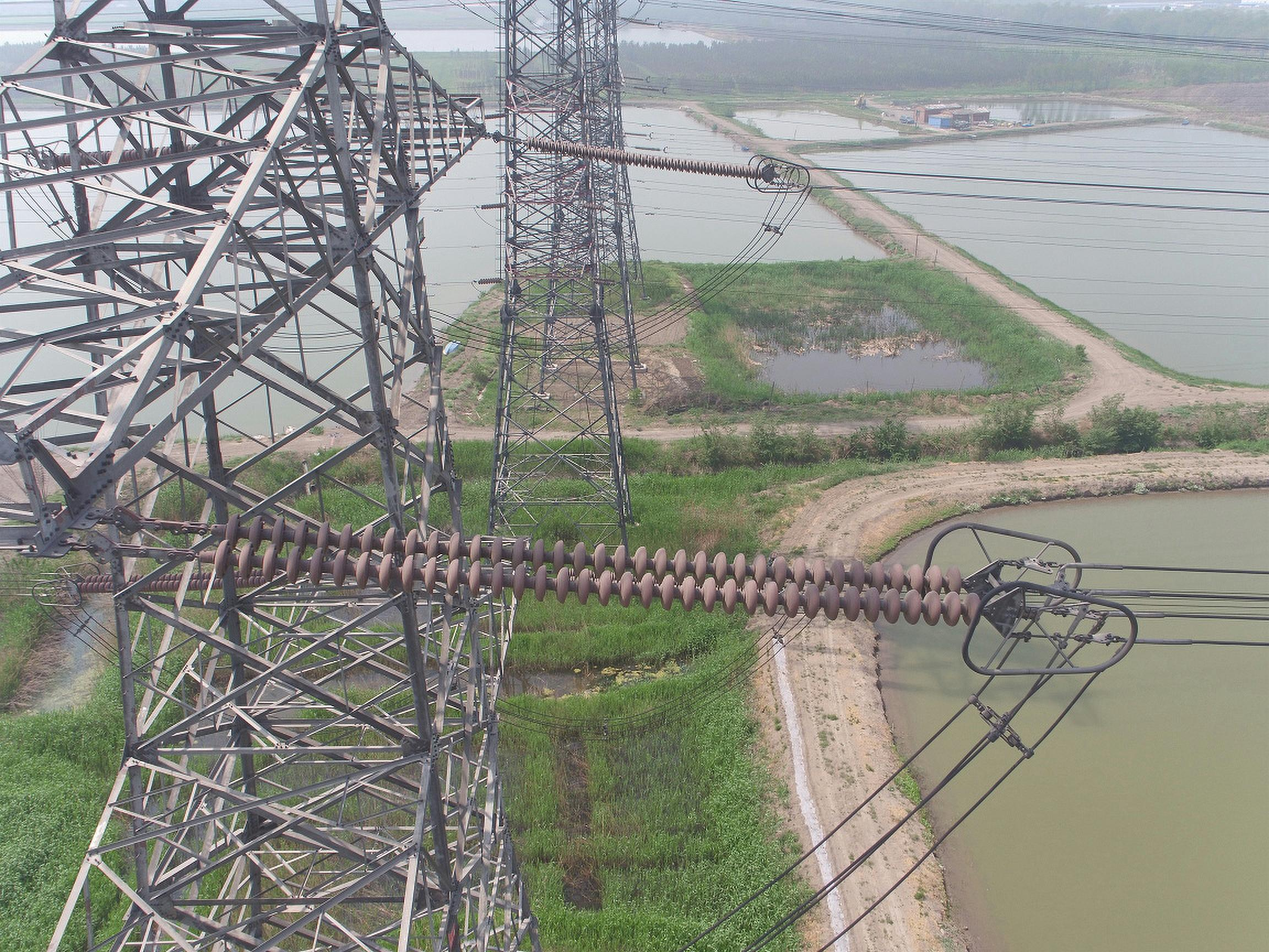insulator: (209, 510, 985, 630), (523, 134, 764, 181), (73, 565, 279, 596), (52, 140, 198, 171)
